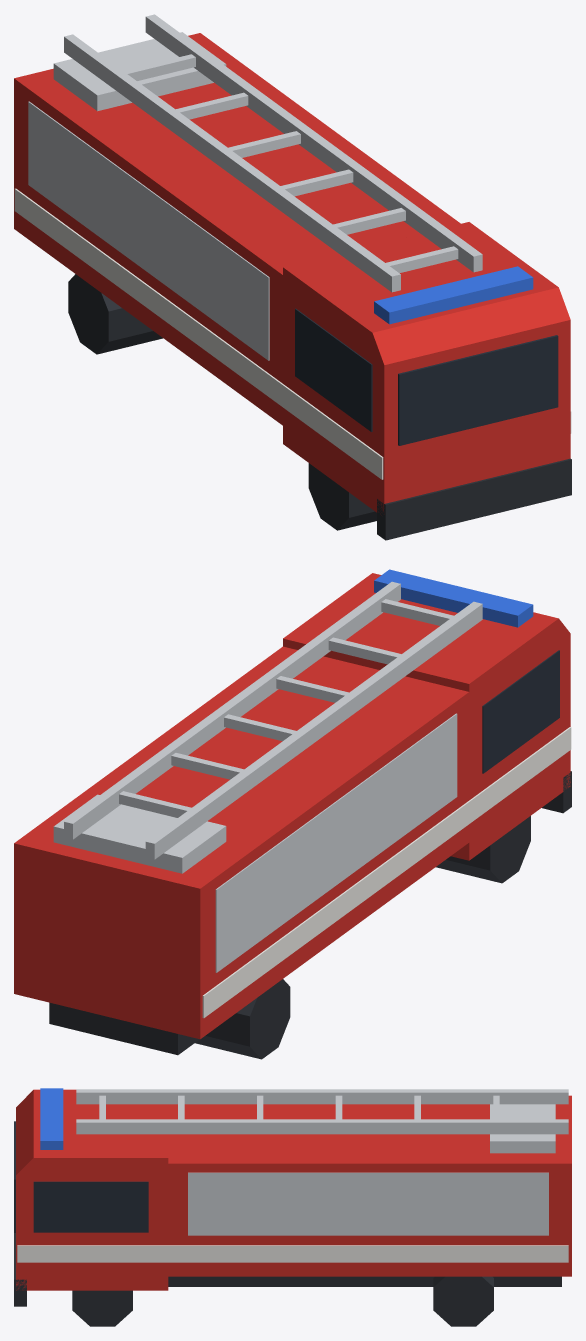
Rendered from firetruck.glb.
3 renders of one model, top to bottom at view 1: azimuth 30°, elevation 25°; view 2: azimuth 150°, elevation 25°; view 3: azimuth 270°, elevation 25°, orthographic. The views are drawn at different scales.
Parts seen in each view (by area): view 1: paint, ladder, glass, dark, trim, lights; view 2: paint, ladder, dark, trim, glass, lights; view 3: paint, ladder, trim, dark, glass, lights.
Part boxes in pixels (x1=…): paint: x1=14, y1=33, x2=570, y2=515; ladder: x1=28, y1=14, x2=482, y2=360; glass: x1=295, y1=308, x2=558, y2=445; dark: x1=68, y1=274, x2=571, y2=540; trim: x1=14, y1=188, x2=571, y2=479; lights: x1=374, y1=266, x2=533, y2=324; paint: x1=14, y1=573, x2=570, y2=1039; ladder: x1=53, y1=581, x2=482, y2=972; dark: x1=49, y1=771, x2=571, y2=1059; trim: x1=202, y1=727, x2=571, y2=1018; glass: x1=482, y1=650, x2=559, y2=773; lights: x1=374, y1=569, x2=533, y2=627; paint: x1=16, y1=1089, x2=571, y2=1290; ladder: x1=76, y1=1089, x2=568, y2=1235; trim: x1=17, y1=1245, x2=568, y2=1262; dark: x1=14, y1=1233, x2=561, y2=1326; glass: x1=14, y1=1121, x2=148, y2=1232; lights: x1=40, y1=1088, x2=63, y2=1149.
Bounding box in the file's own units: 2.5 × 3.15 × 8.5.
